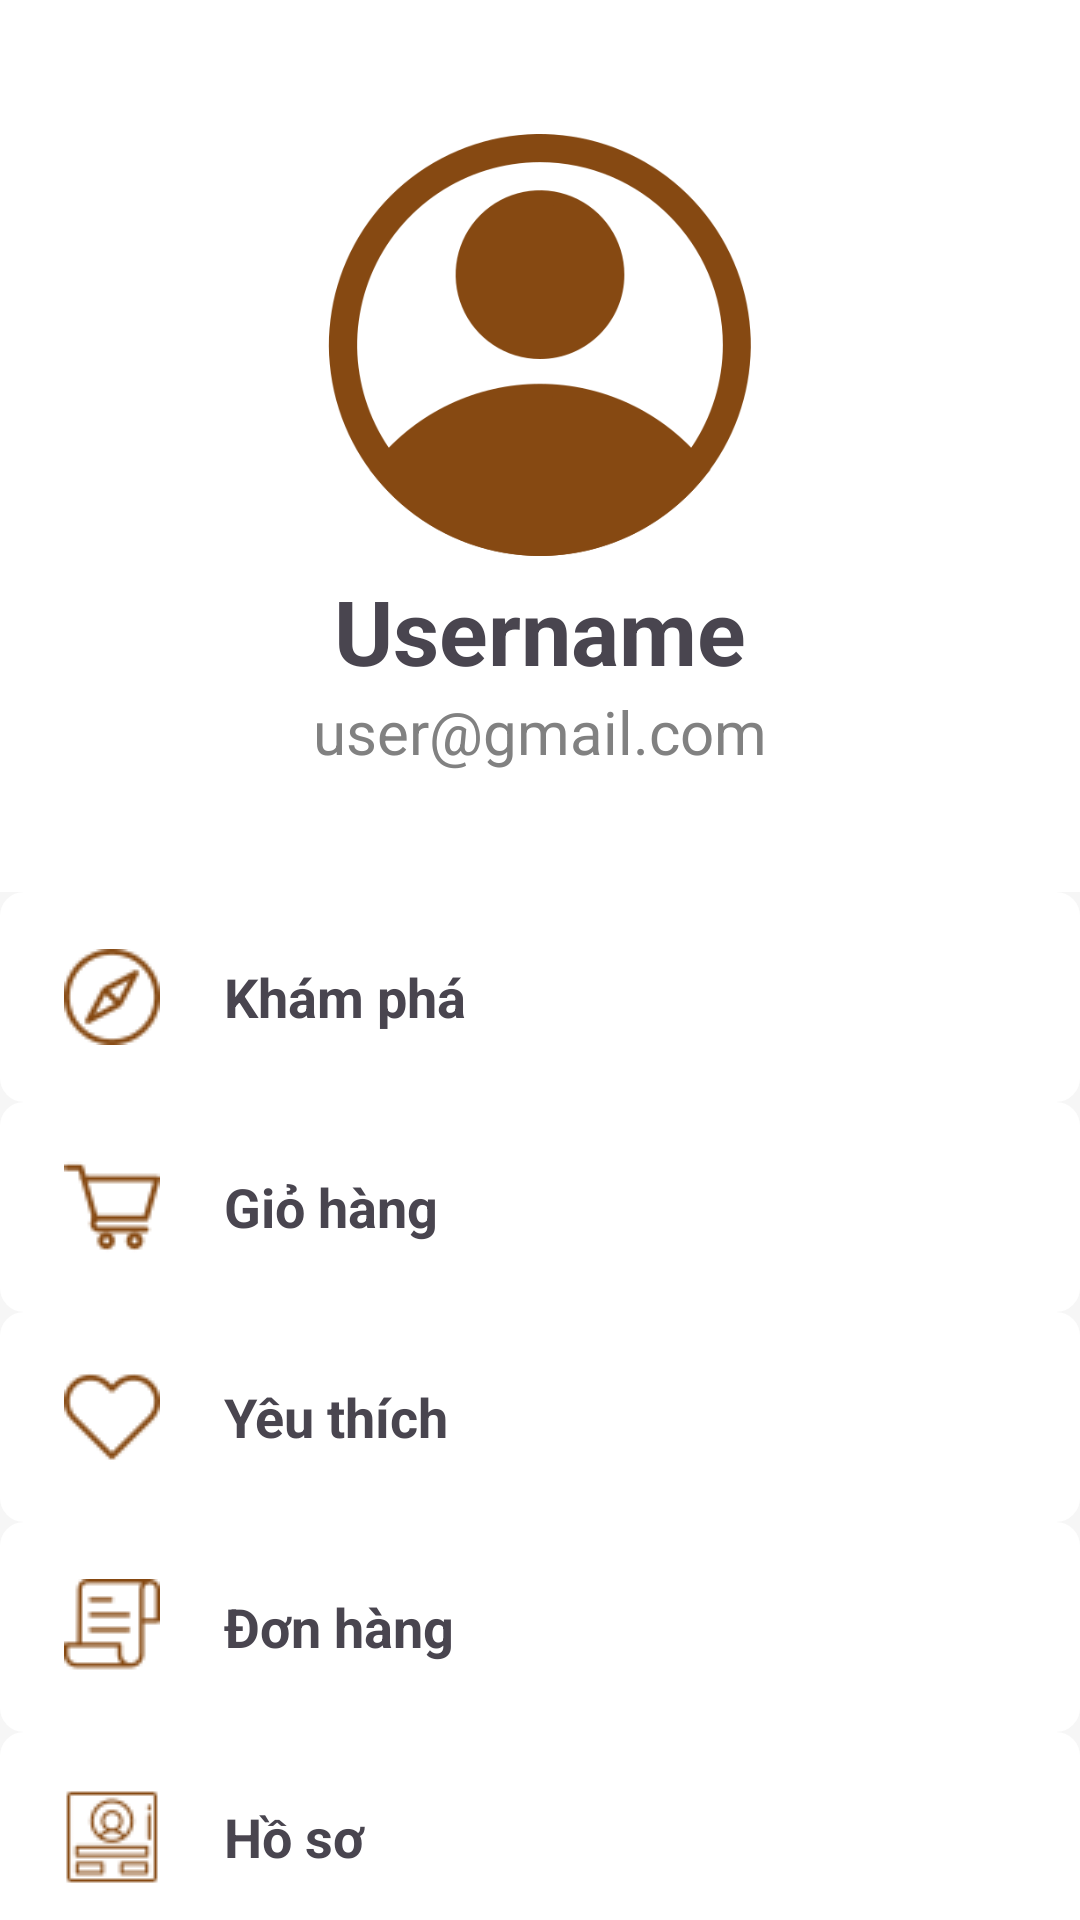

Locate icon controls on the screen. Image size 1080 × 1920, boxes as box(x1, y1, x2, y2).
pro bill: box(64, 1579, 160, 1670)
pro cart: box(64, 1164, 160, 1250)
pro explore: box(64, 949, 160, 1045)
pro heart: box(64, 1374, 160, 1460)
pro user: box(66, 1791, 158, 1883)
